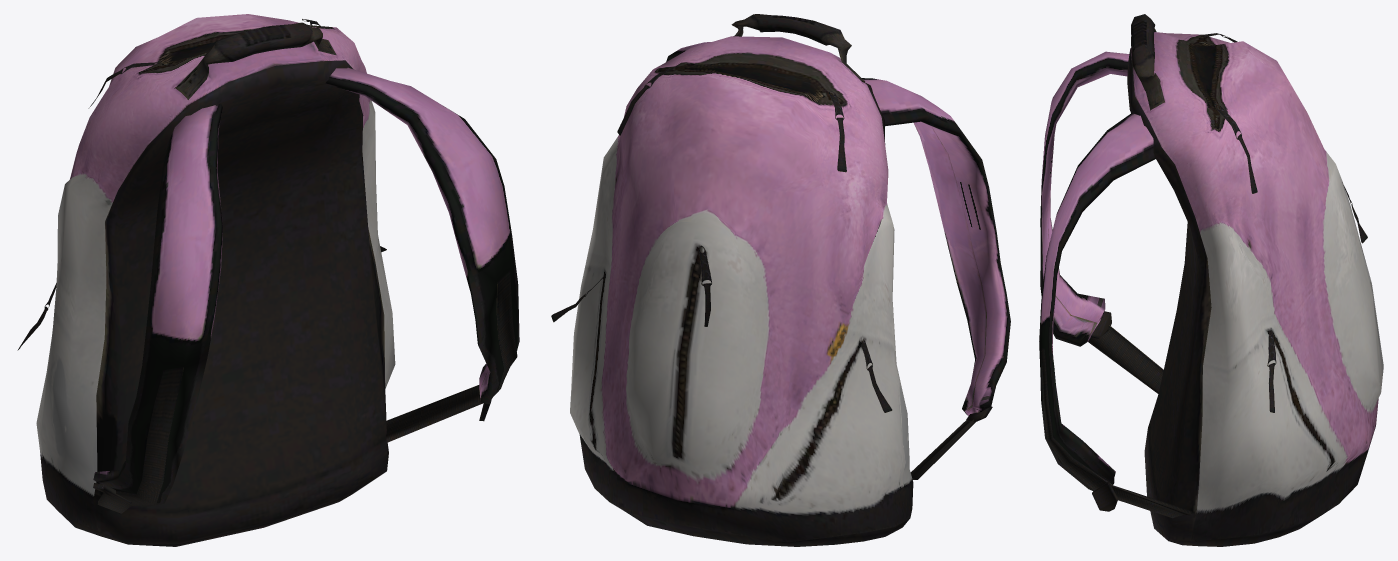
File: Backpack.FBX
The picture shows the model from 3 angles, left to right: view 1: azimuth 30°, elevation 25°; view 2: azimuth 150°, elevation 25°; view 3: azimuth 270°, elevation 25°; orthographic projection. The views are drawn at different scales.
Visible parts, largest first — view 1: backpack; view 2: backpack; view 3: backpack.
Part boxes in pixels (x1,y1,x2,y2): backpack: [17, 14, 519, 546]; backpack: [551, 14, 1010, 546]; backpack: [1039, 14, 1383, 546].
Size of the model in its own units: 4.95 by 3.96 by 5.95.
1 material, 1 textured.
